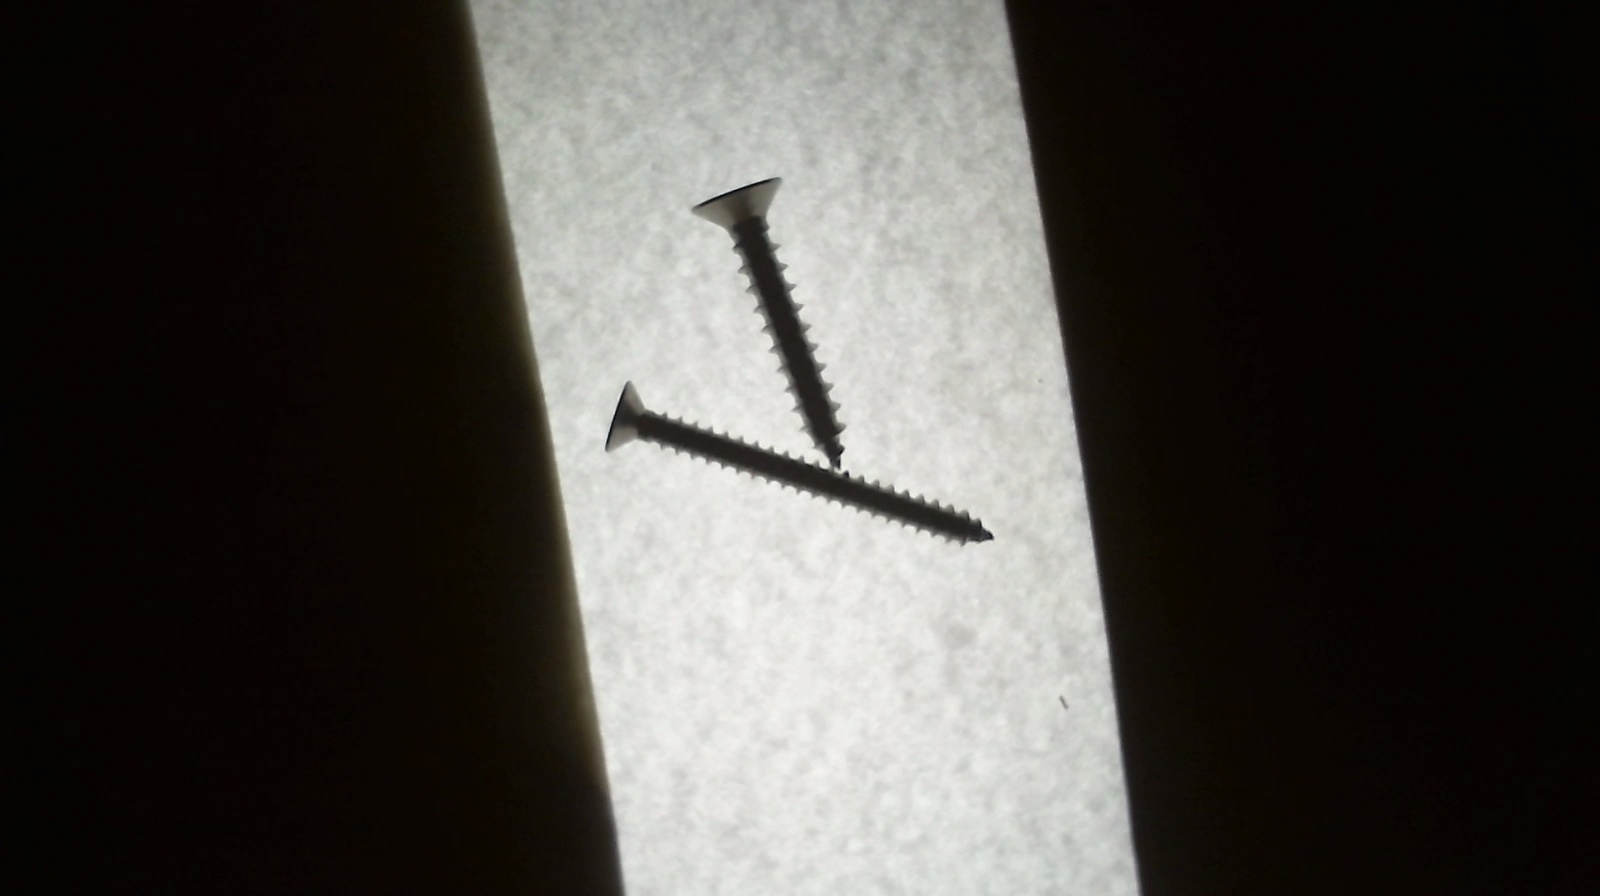S001: (685, 173, 851, 471)
S002: (595, 374, 993, 546)
